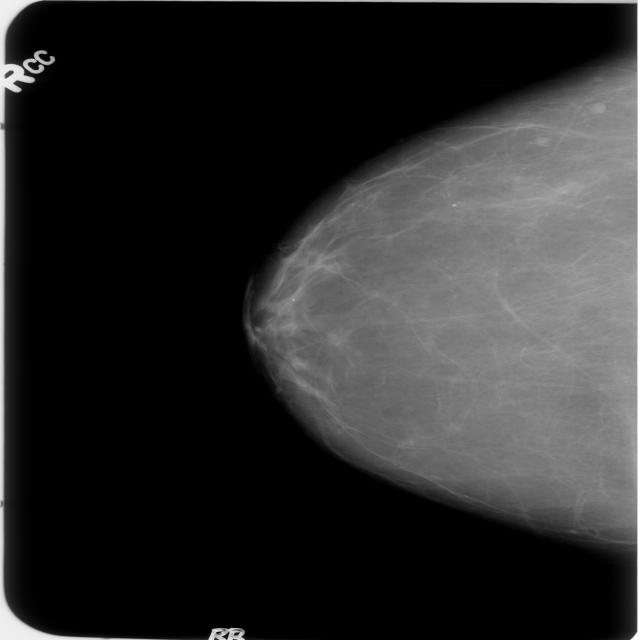normal: (233, 56, 640, 547)
